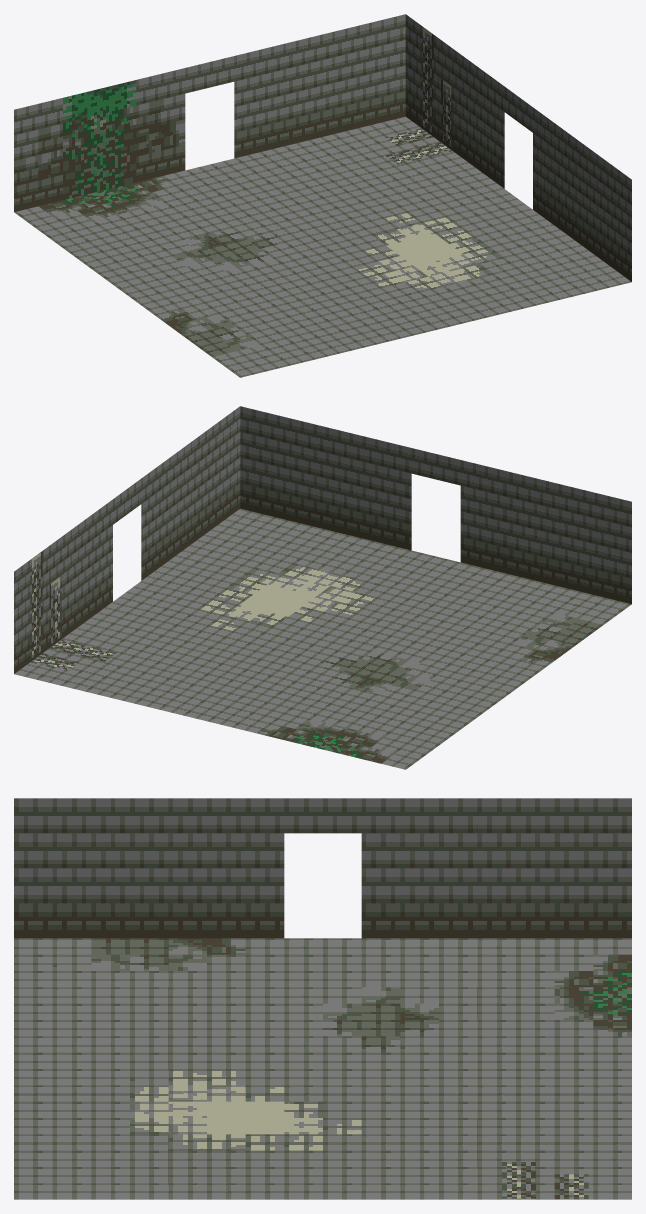
The model's file is nodoors.gltf.
3 renders of one model, top to bottom at view 1: azimuth 30°, elevation 25°; view 2: azimuth 150°, elevation 25°; view 3: azimuth 270°, elevation 25°, orthographic. The views are drawn at different scales.
Visible parts, largest first — view 1: default; view 2: default; view 3: default.
Boxes of the visible parts, box(x1,y1,x2,y2) form: default: box(14, 14, 631, 377); default: box(14, 406, 631, 769); default: box(14, 798, 631, 1199).
Bounding box in the file's own units: 36 × 9.28 × 36.
1 material, 1 textured.
